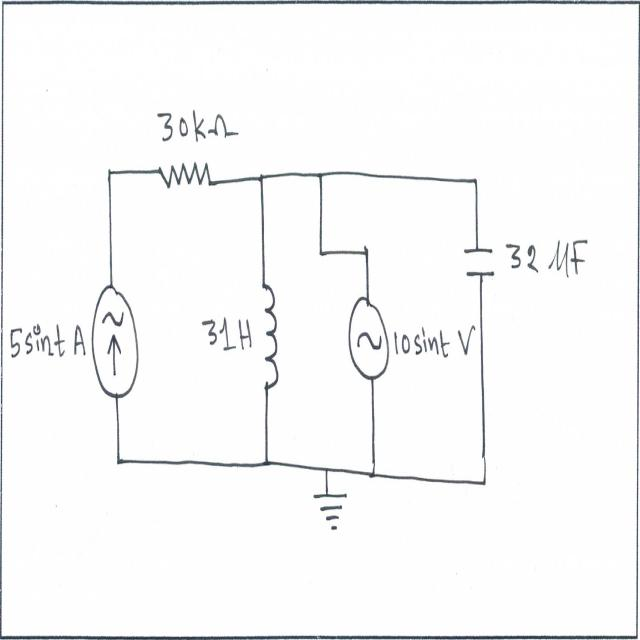ac_current: (345, 295, 390, 390)
capacitor: (462, 241, 497, 284)
current_source: (88, 278, 140, 402)
ground: (308, 484, 352, 539)
inductor: (259, 277, 281, 396)
resistor: (156, 157, 213, 201)
